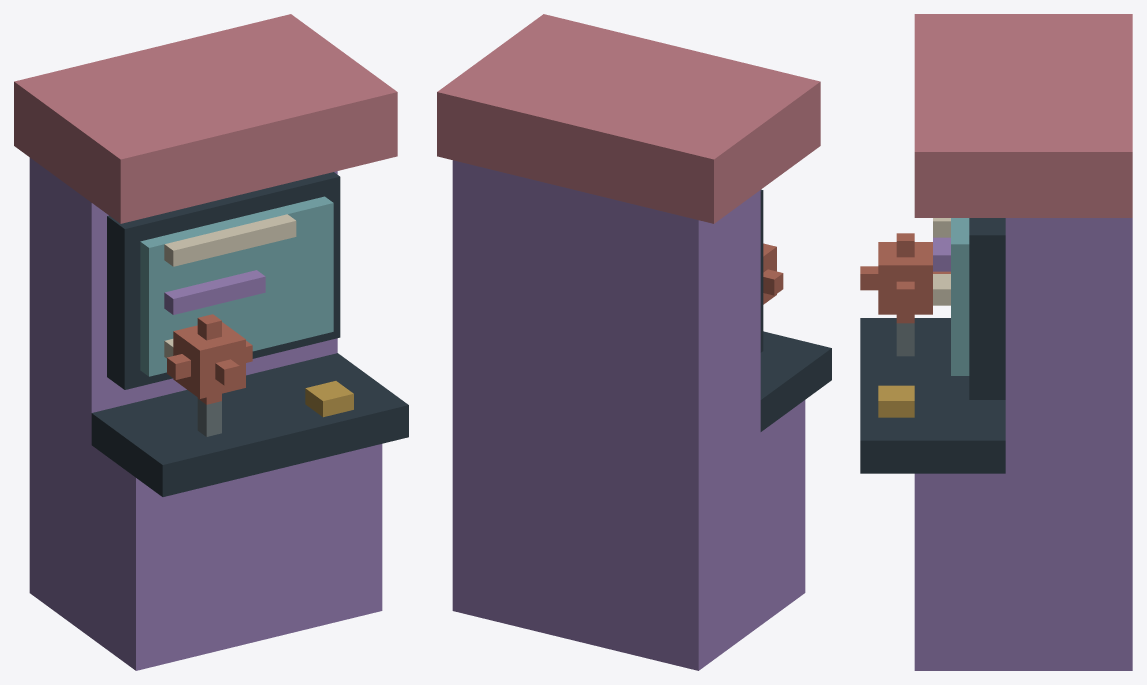
The model's file is games-01.glb.
3 views of the same model, side by side, from view 1: azimuth 30°, elevation 25°; view 2: azimuth 150°, elevation 25°; view 3: azimuth 270°, elevation 25° (orthographic). The views are drawn at different scales.
Visible parts, largest first — view 1: Arcade cabinet; view 2: Arcade cabinet; view 3: Arcade cabinet.
Part boxes in pixels (bbox=[...]): Arcade cabinet: bbox=[14, 14, 408, 670]; Arcade cabinet: bbox=[437, 14, 831, 670]; Arcade cabinet: bbox=[860, 14, 1132, 670].
Size of the model in its own units: 1.44 by 2.56 by 1.2.
